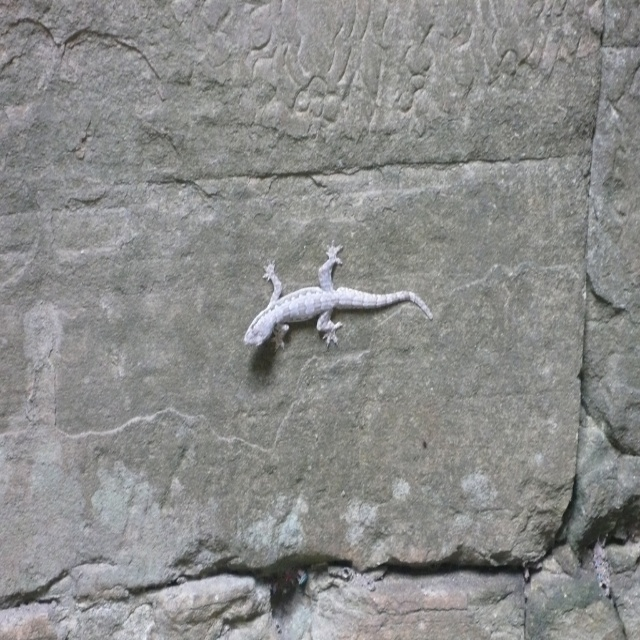Lizard: (250, 250, 430, 356)
